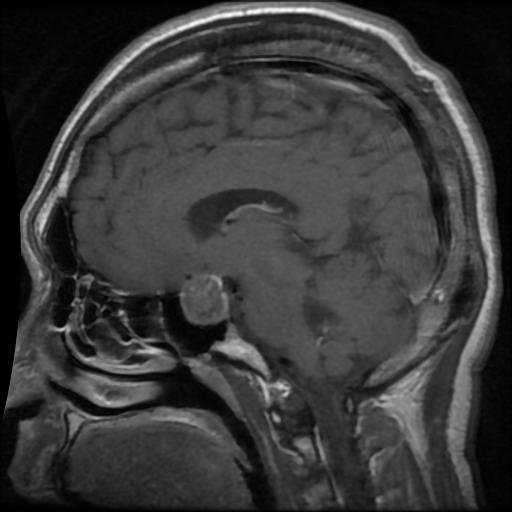Pituirity_tumour: (180, 273, 231, 325)
